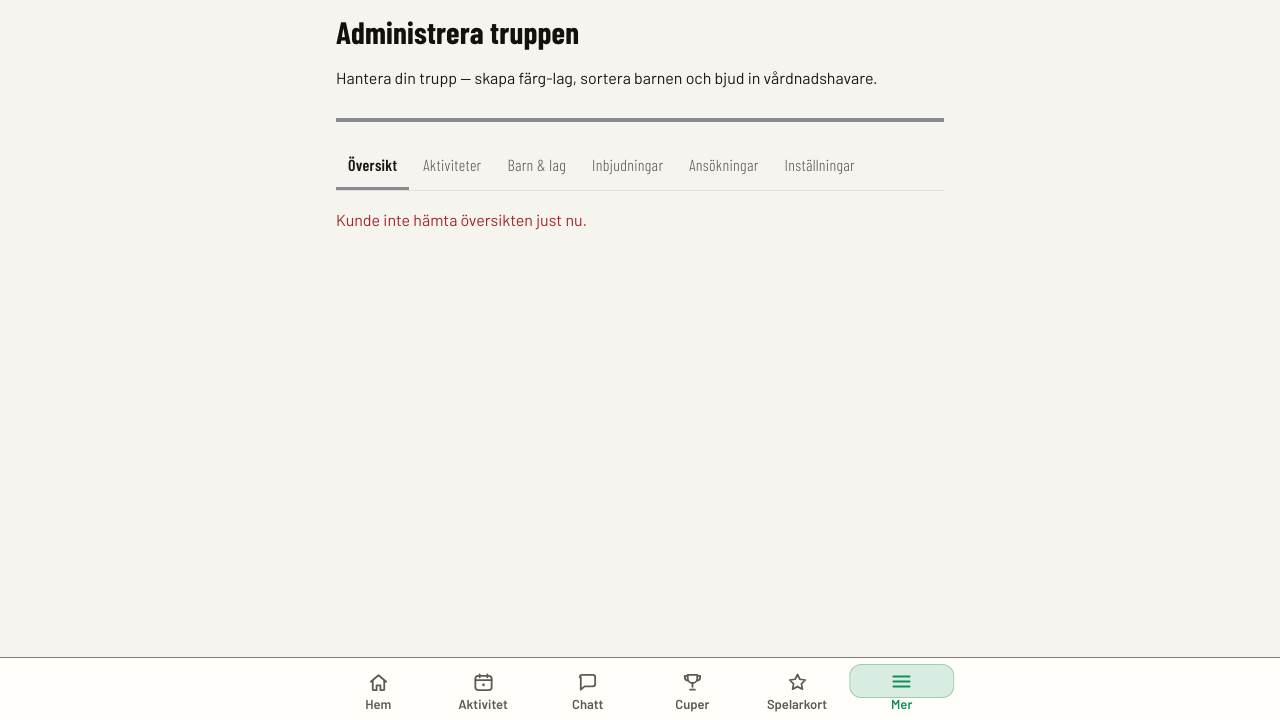
Test: Trupp-adminvyn › visar ett fel när inbjudningslistan inte kan hämtas, inte en tom lista (#543)
Step 1. Click the tab "Inbjudningar" → click(628, 166), box [580, 142, 675, 190]
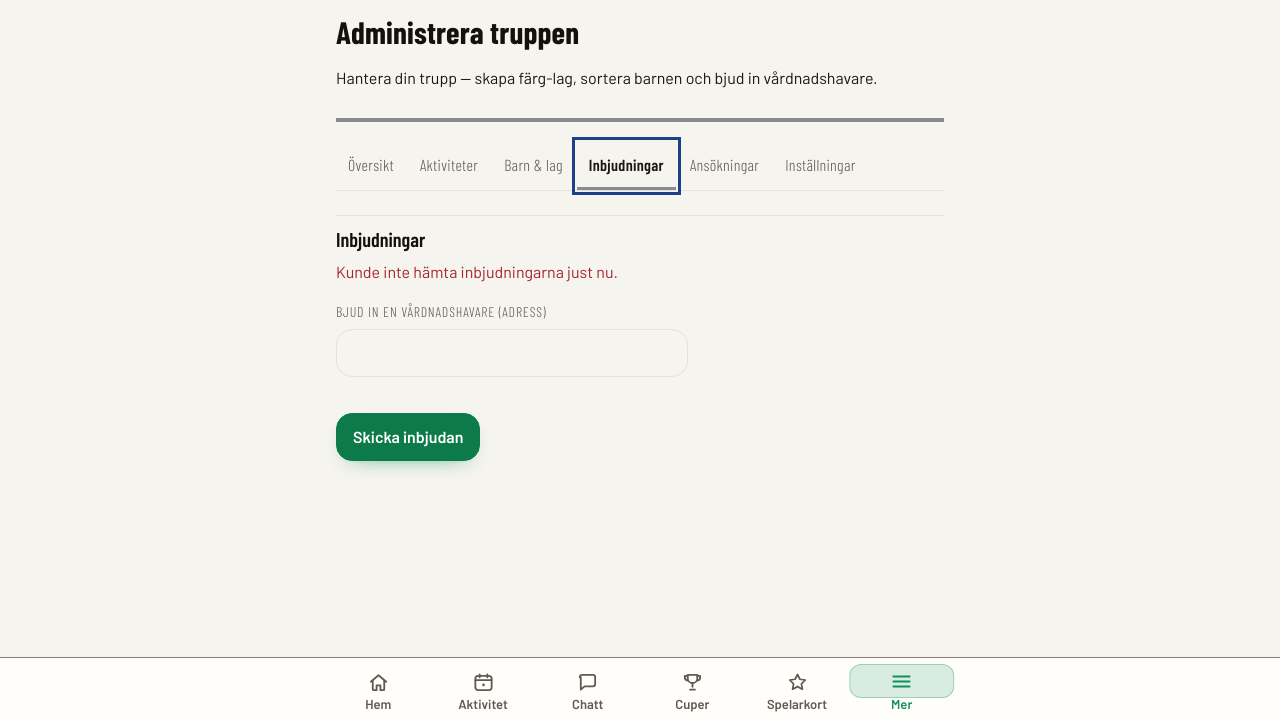
Expected: the text "Kunde inte hämta inbjudningarna just nu." is shown, [336, 262, 618, 281]
